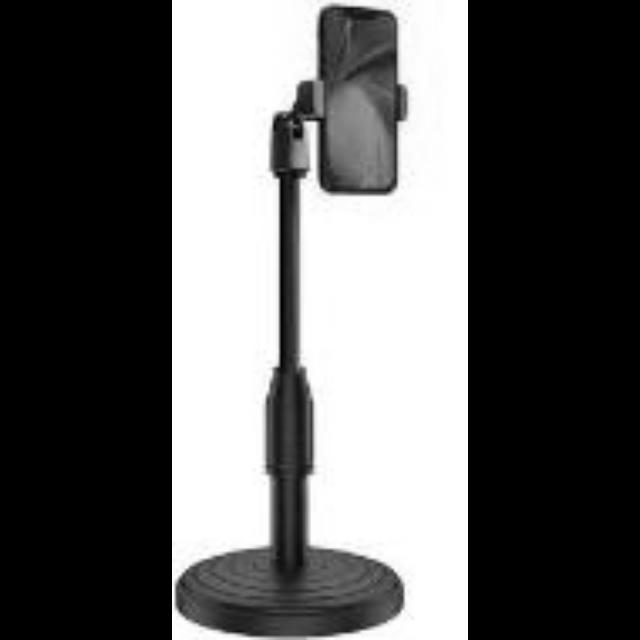fake: (310, 6, 402, 198)
